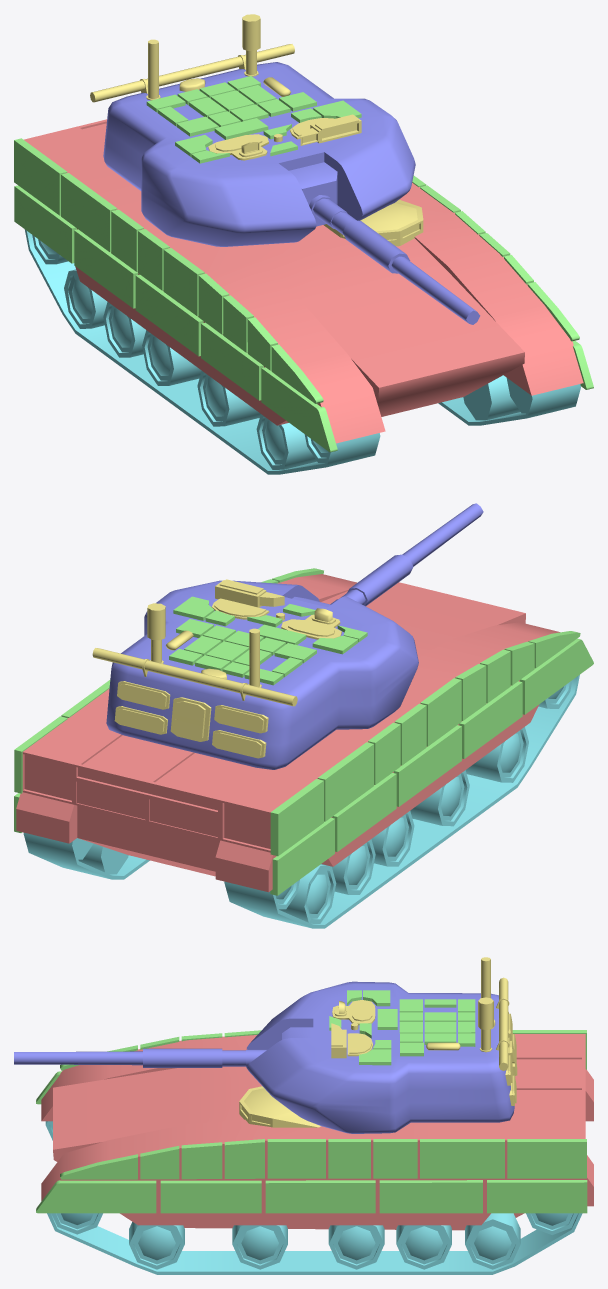
File: 3D_ZTQ_15_Tank.FBX
3 views of the same model, one above another, from view 1: azimuth 30°, elevation 25°; view 2: azimuth 150°, elevation 25°; view 3: azimuth 270°, elevation 25° (orthographic). The views are drawn at different scales.
Visible parts, largest first — view 1: Middle Tank, Top Tank, Plates, Tires, Top Plates, Attachments, Window; view 2: Middle Tank, Top Tank, Plates, Tires, Attachments, Top Plates; view 3: Middle Tank, Plates, Top Tank, Tires, Top Plates, Attachments, Window.
Part boxes in pixels (x1=…): Middle Tank: x1=24, y1=119, x2=583, y2=443; Top Tank: x1=103, y1=62, x2=480, y2=324; Plates: x1=14, y1=138, x2=593, y2=452; Tires: x1=24, y1=229, x2=580, y2=474; Top Plates: x1=146, y1=76, x2=361, y2=163; Attachments: x1=90, y1=14, x2=361, y2=160; Window: x1=324, y1=199, x2=423, y2=246; Middle Tank: x1=16, y1=574, x2=559, y2=892; Top Tank: x1=106, y1=503, x2=483, y2=769; Plates: x1=14, y1=568, x2=593, y2=895; Tires: x1=23, y1=675, x2=579, y2=928; Attachments: x1=92, y1=579, x2=341, y2=758; Top Plates: x1=169, y1=596, x2=367, y2=685; Middle Tank: x1=41, y1=1034, x2=593, y2=1230; Plates: x1=36, y1=1030, x2=587, y2=1213; Top Tank: x1=14, y1=981, x2=514, y2=1133; Tires: x1=45, y1=1121, x2=582, y2=1274; Top Plates: x1=329, y1=990, x2=475, y2=1065; Attachments: x1=331, y1=957, x2=517, y2=1105; Window: x1=239, y1=1086, x2=320, y2=1127.
Size of the model in its own units: 144 by 144 by 315.
